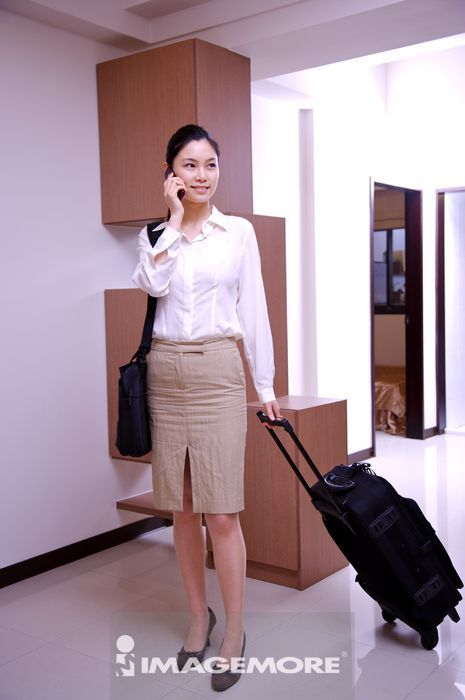talk: (165, 154, 218, 219)
